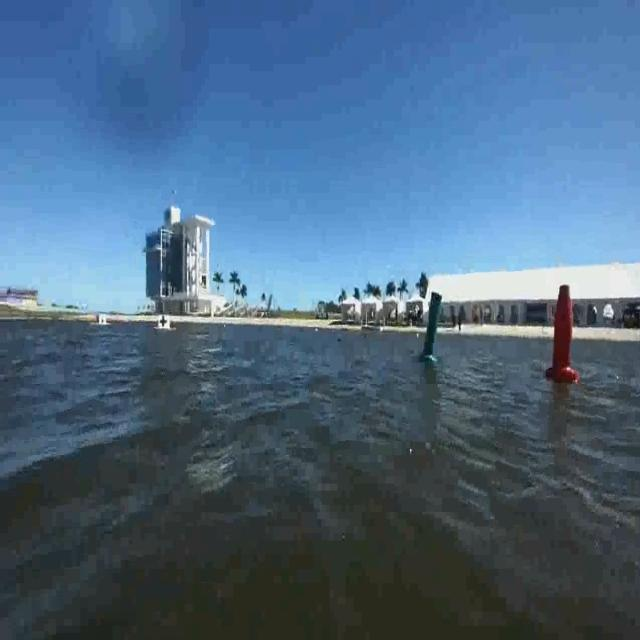green-column-buoy: (418, 289, 443, 364)
red-column-buoy: (547, 284, 580, 383)
